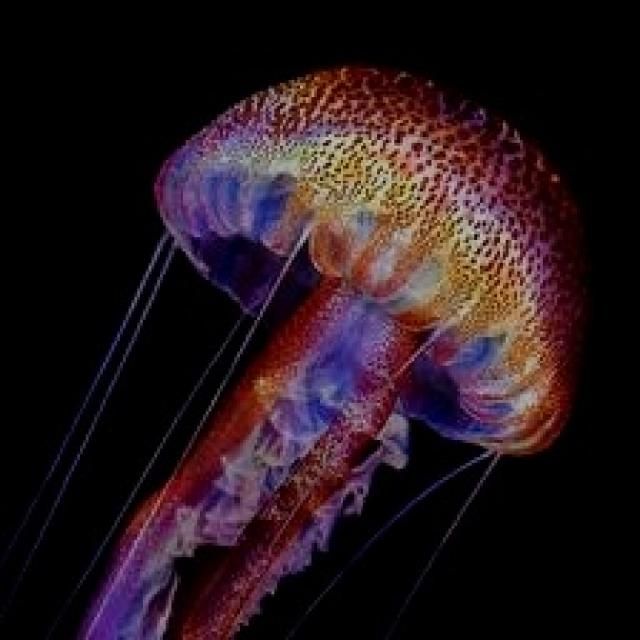Jellyfish: (0, 60, 589, 637)
